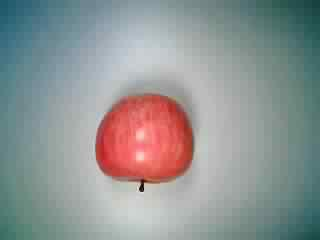apple: (92, 90, 196, 194)
